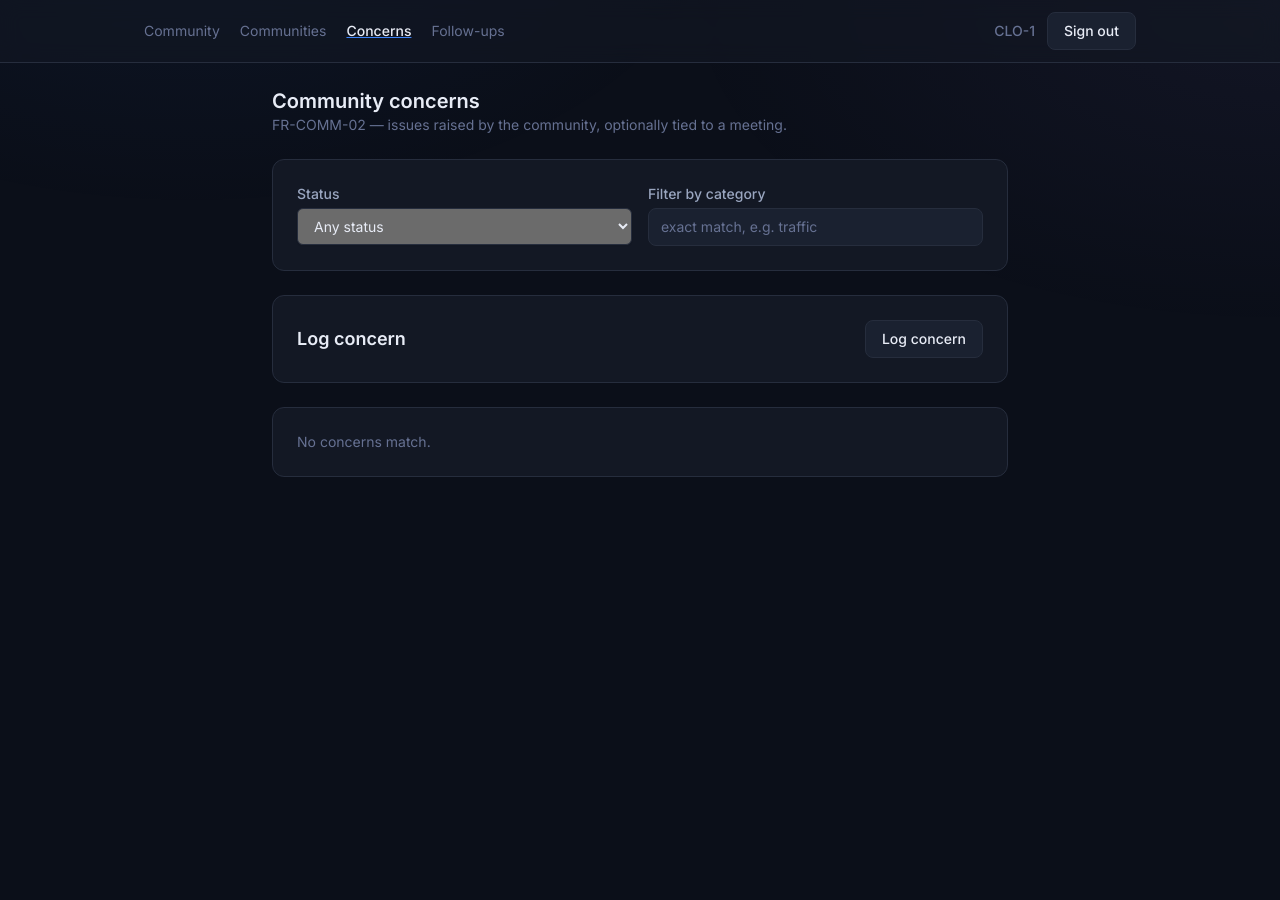
Test: ConcernsPage › logs a concern with description + raised_by, meeting_id null when blank
This screenshot has width=1280, height=900.
Expected: the text "No concerns match." is shown, [297, 433, 431, 450]
Click the button "Log concern" at {"x": 924, "y": 339}, box [865, 320, 983, 358]
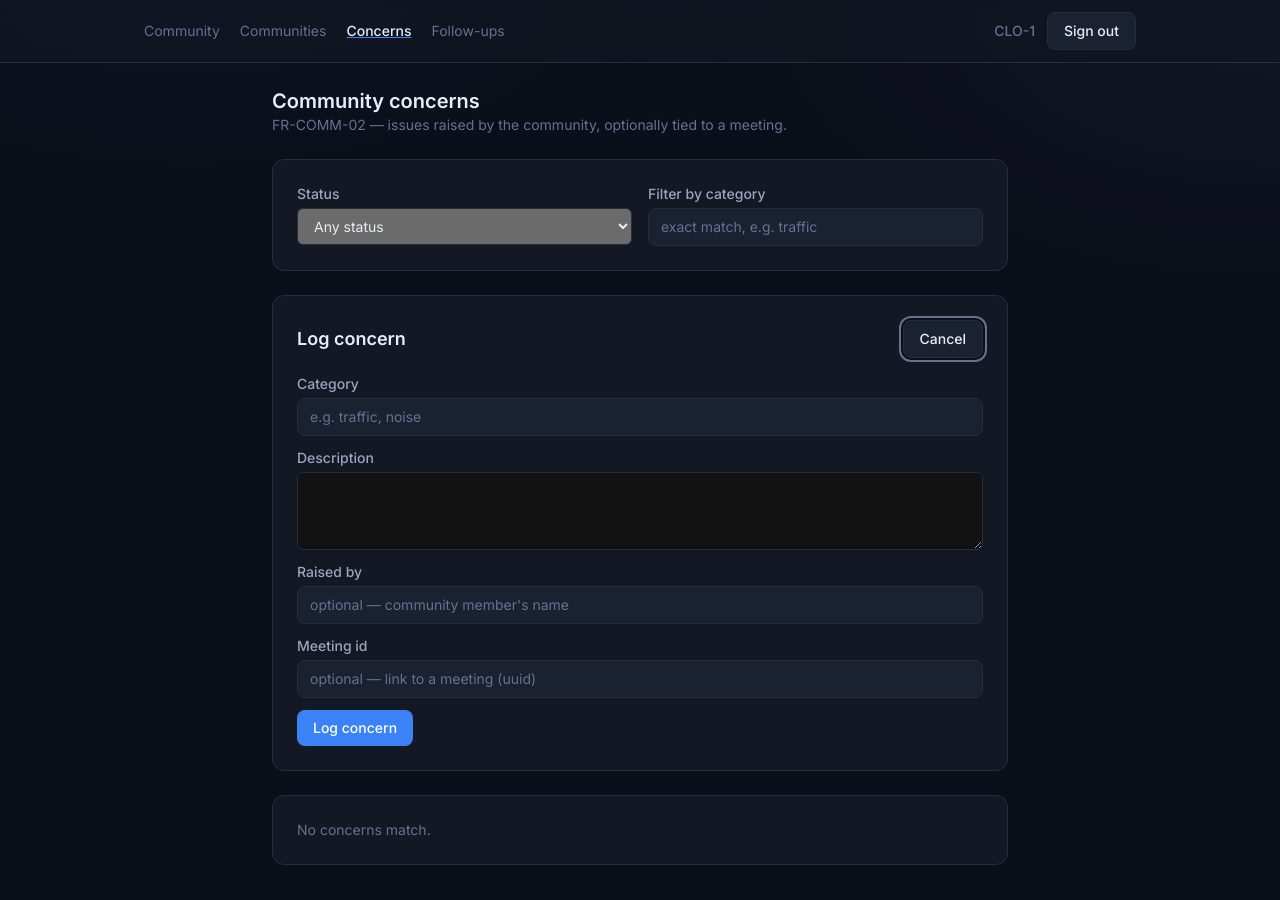
Type "noise" into the field labelled "Category" at {"x": 640, "y": 417}, box [297, 398, 983, 436]
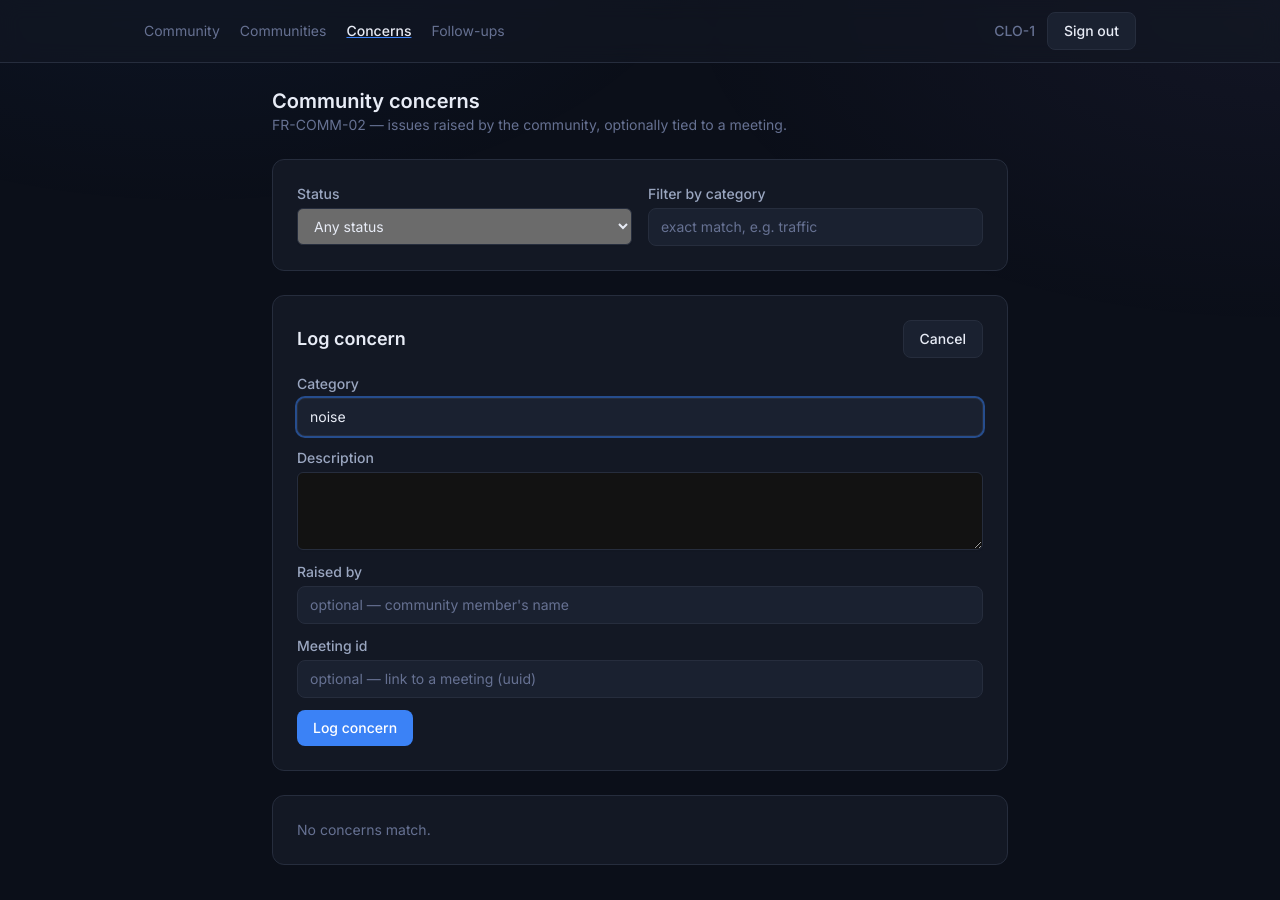
Type "Loud bar after midnight" into the text box labelled "Description" at {"x": 640, "y": 511}, box [297, 472, 983, 550]
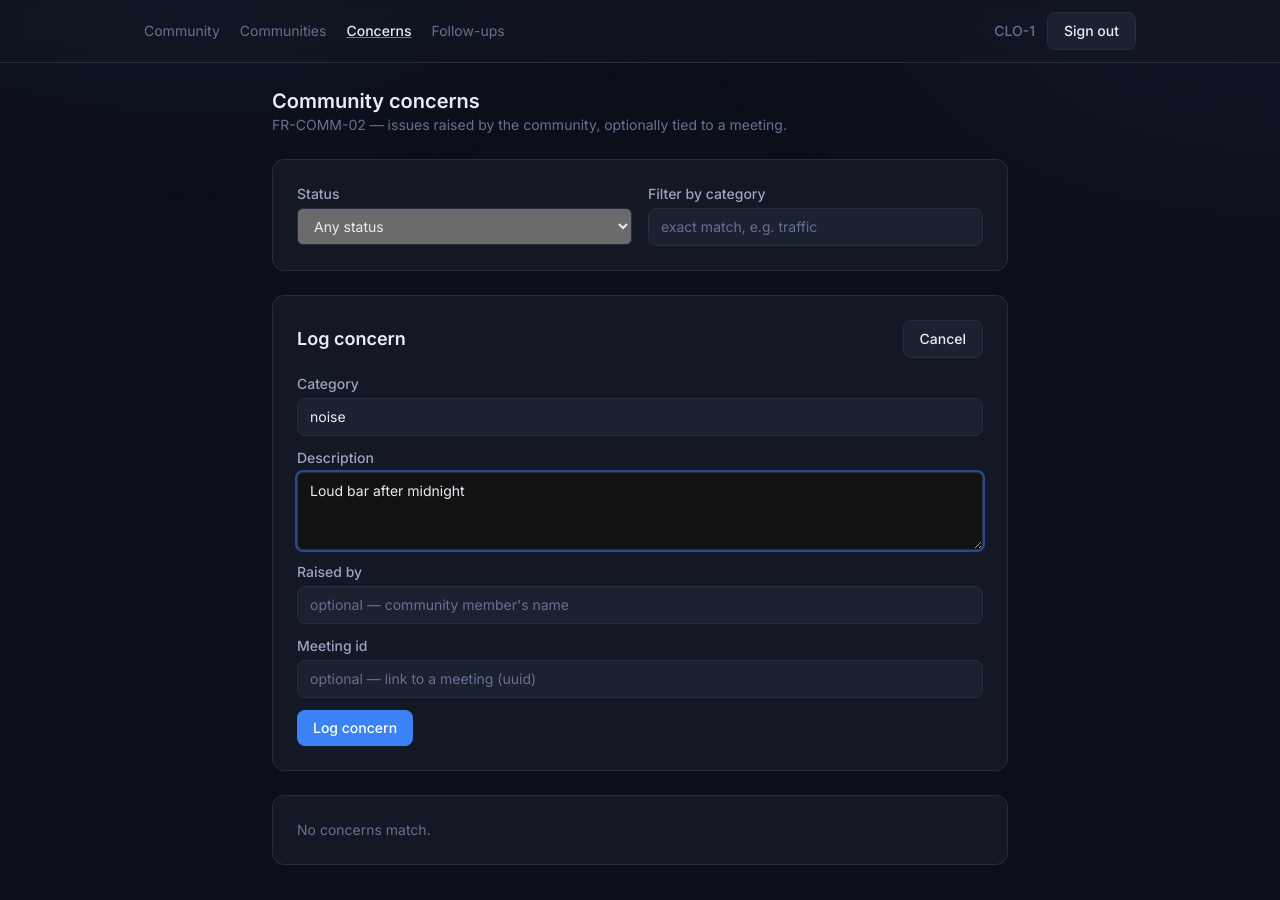
Type "J. Doe" into the field labelled "Raised by" at {"x": 640, "y": 605}, box [297, 586, 983, 624]
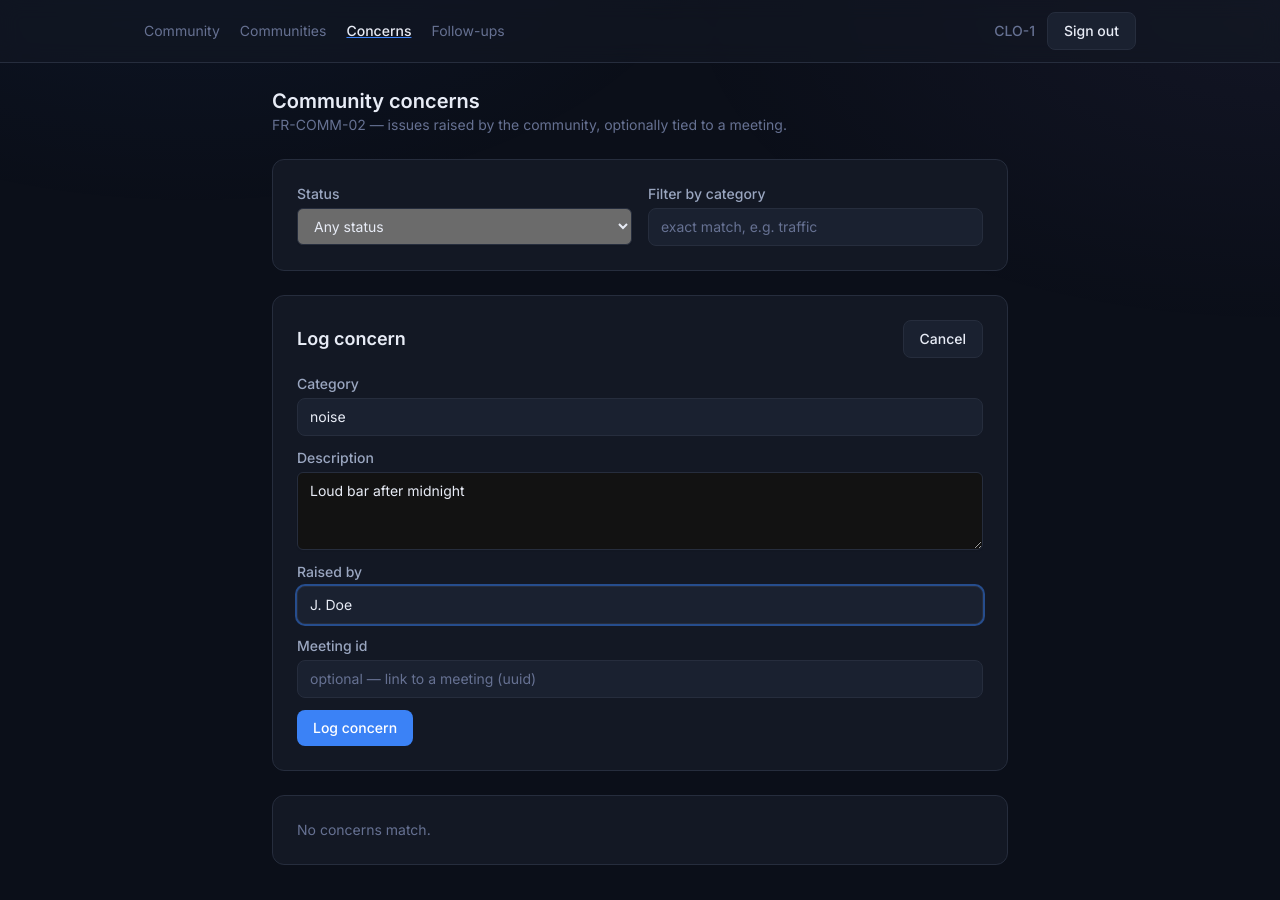
Click the button "Log concern" at {"x": 355, "y": 728}, box [297, 710, 413, 746]
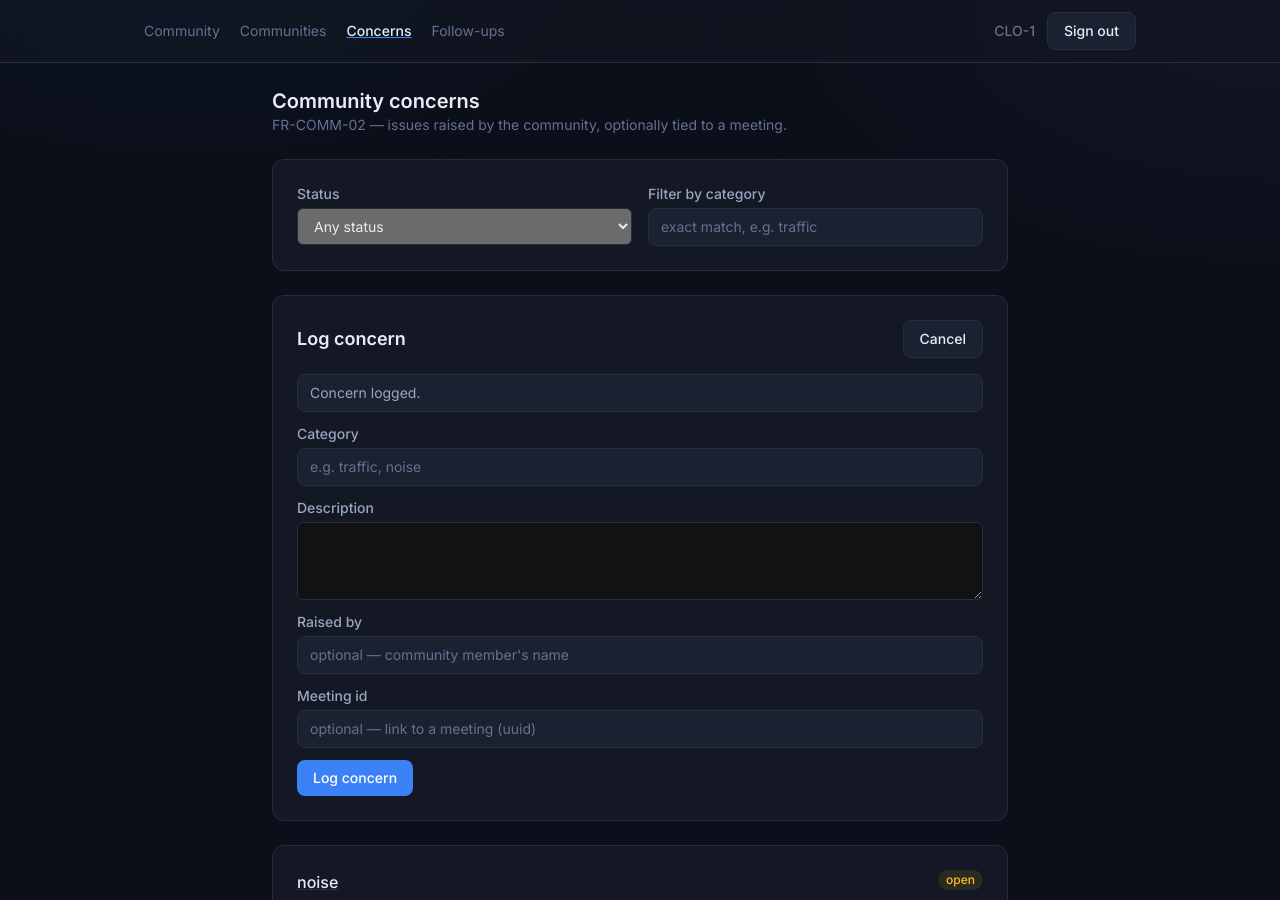
Now the text "Concern logged." is shown, box [297, 374, 983, 412]
